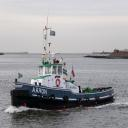tugboat: (11, 3, 117, 116)
